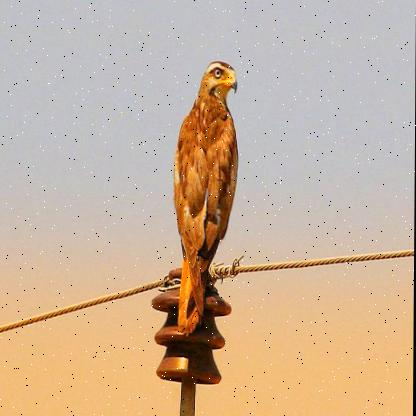Burung: (159, 59, 244, 335)
